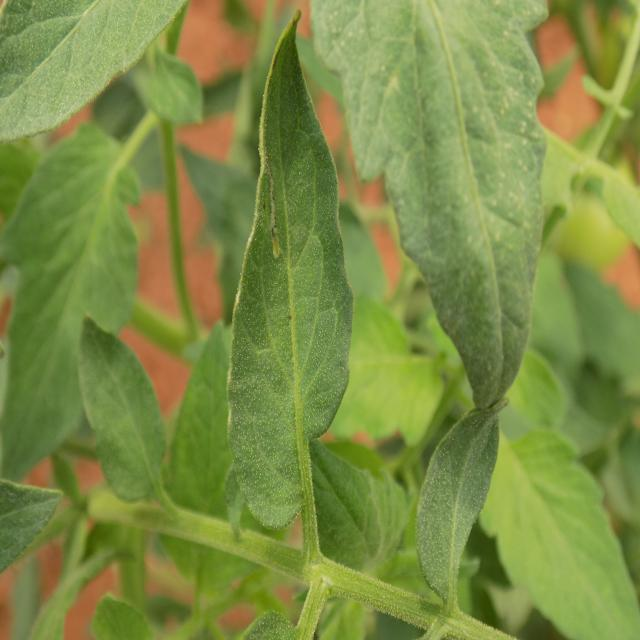tomato_healthy: (227, 4, 353, 532), (75, 313, 173, 518), (418, 393, 498, 621)
